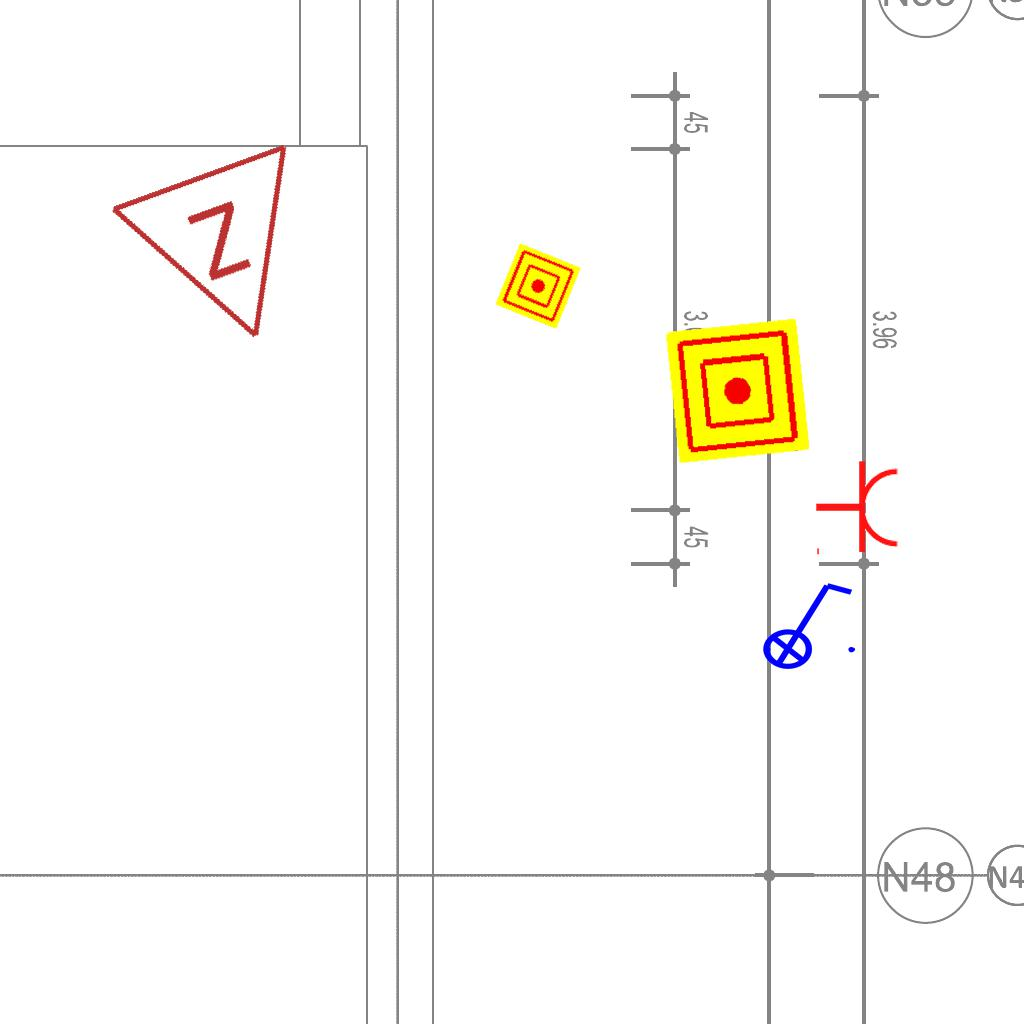Ausschalter_beleuchtet: (749, 575, 861, 671)
NAM-Nichtautomatischer_Melder: (665, 318, 811, 464), (495, 243, 581, 329)
Schukosteckdose_einfach: (814, 459, 901, 559)
Zimmersignalleuchte: (102, 127, 356, 383)
